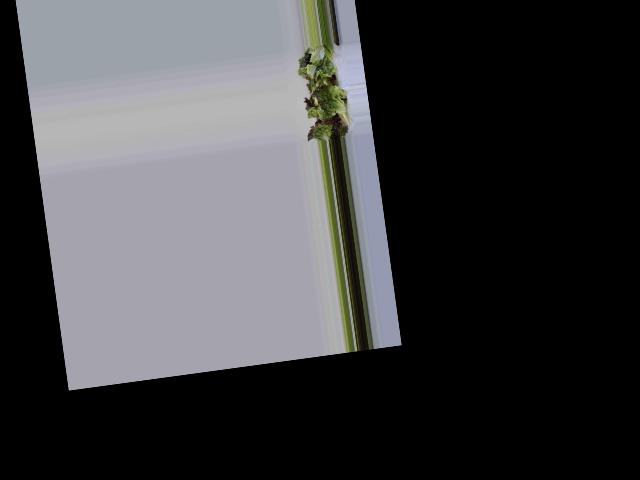lettuce: (299, 48, 346, 139)
